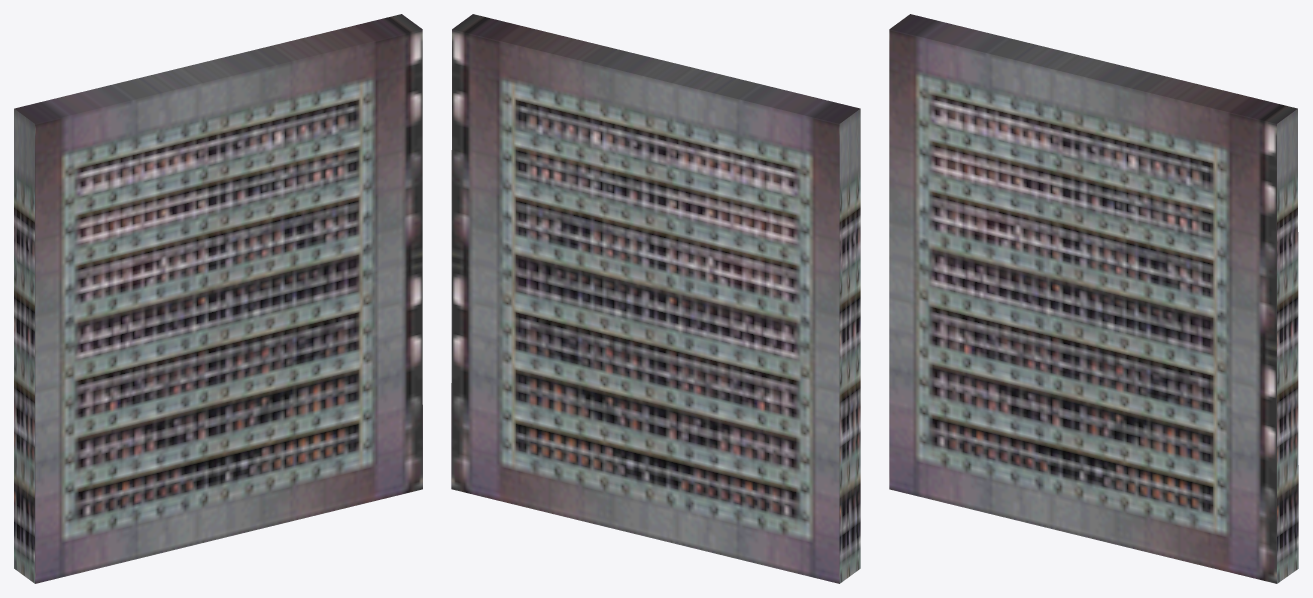
File: DOOR05.glb
3 renders of one model, left to right at view 1: azimuth 30°, elevation 25°; view 2: azimuth 150°, elevation 25°; view 3: azimuth 330°, elevation 25°, orthographic.
Visible parts, largest first — view 1: DOOR05; view 2: DOOR05; view 3: DOOR05.
Boxes of the visible parts, <box> form: DOOR05: <box>14,14,422,583</box>; DOOR05: <box>451,14,860,583</box>; DOOR05: <box>889,14,1298,583</box>.
Size of the model in its own units: 693 by 784 by 64.83.
Materials: 1 (1 with a texture image).
